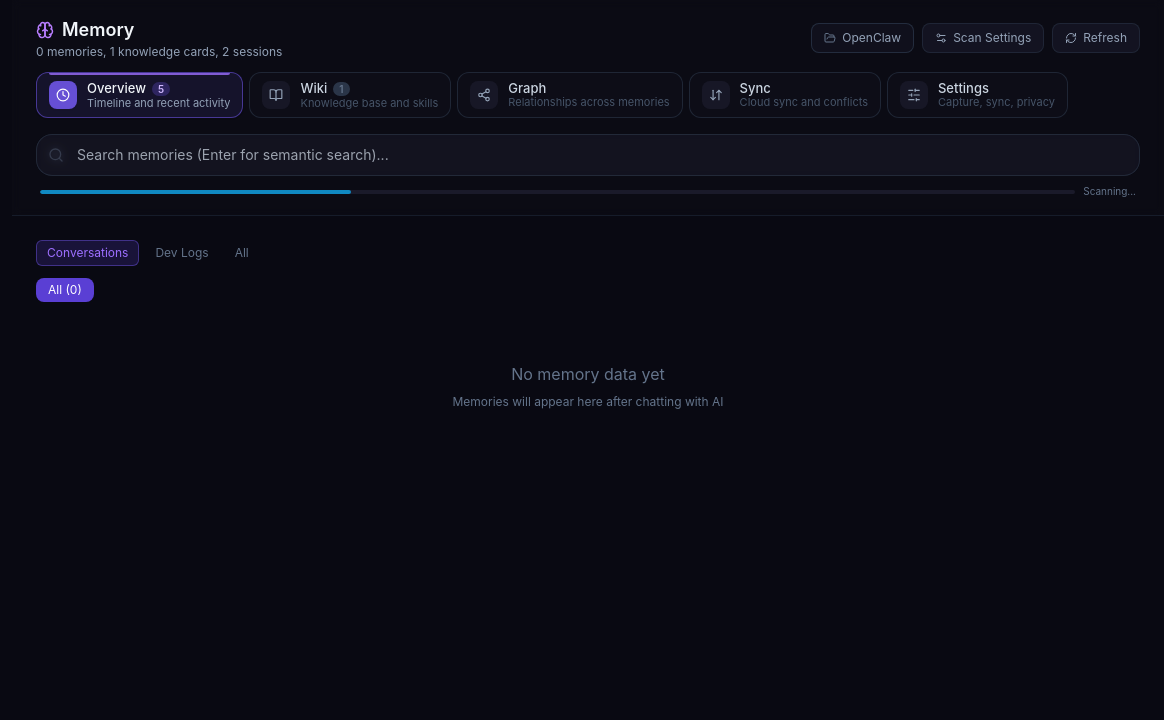
Test: Memory page daemon connection states › shows cards in Wiki tab without daemon offline state when daemon returns data
// Switch to Wiki tab to see cards in overview
Click the text "Wiki" at (314, 88), box x1=300 y1=82 x2=327 y2=95
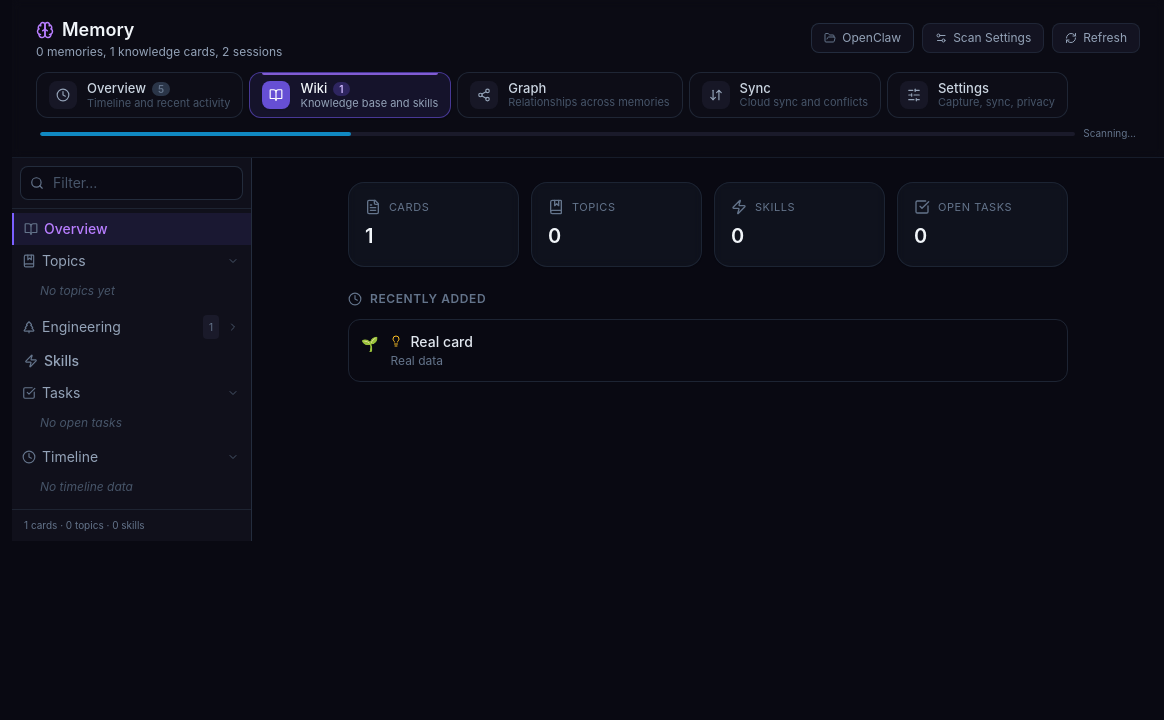
Expected: the text "Real card" is shown, x1=410 y1=332 x2=473 y2=351
